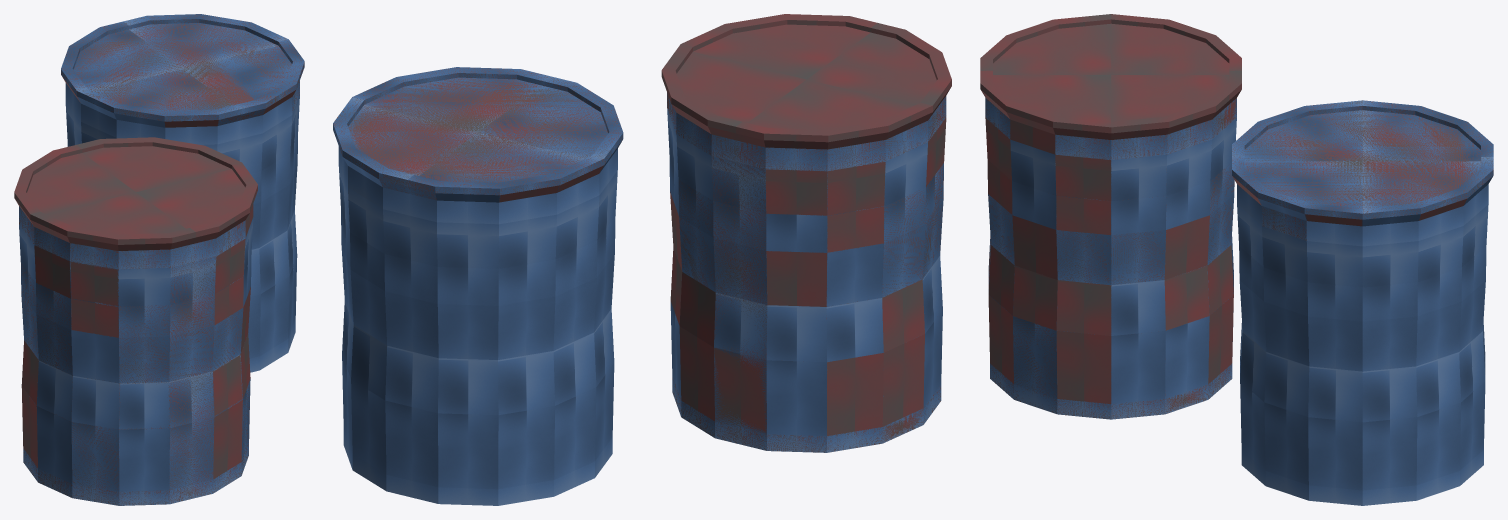
The model's file is can.fbx.
3 renders of one model, left to right at view 1: azimuth 30°, elevation 25°; view 2: azimuth 150°, elevation 25°; view 3: azimuth 270°, elevation 25°, orthographic. The views are drawn at different scales.
Visible parts, largest first — view 1: skpECE8_1, skpECE8_2; view 2: skpECE8_1, skpECE8_2; view 3: skpECE8_2, skpECE8_1.
Part boxes in pixels (bbox=[...]): skpECE8_1: bbox=[14, 137, 257, 505]; skpECE8_2: bbox=[61, 14, 304, 372]; skpECE8_1: bbox=[661, 14, 951, 452]; skpECE8_2: bbox=[333, 67, 623, 505]; skpECE8_2: bbox=[1232, 100, 1493, 505]; skpECE8_1: bbox=[980, 14, 1241, 419].
Size of the model in its own units: 336 by 232 by 364.
